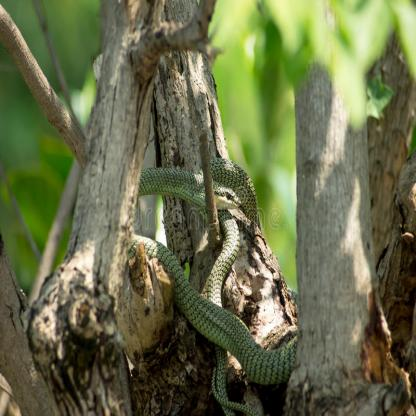Snake: (137, 156, 300, 416)
